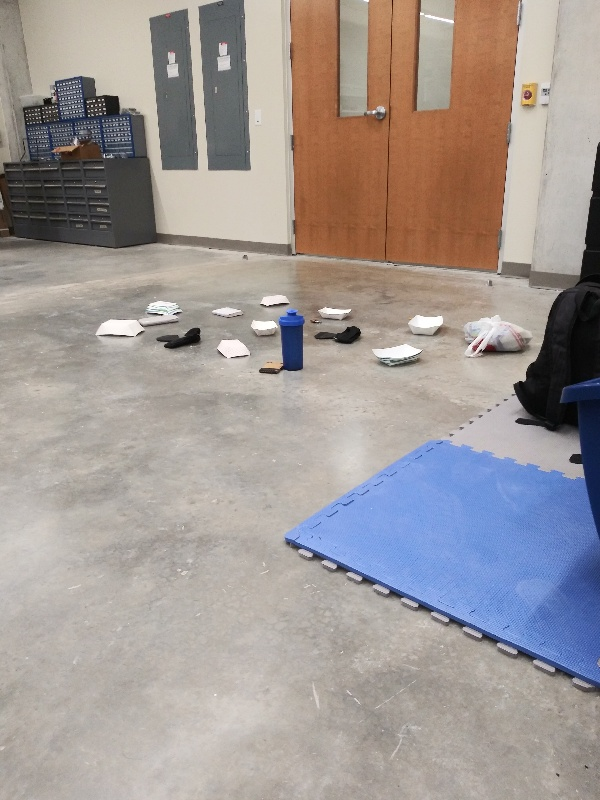plate: (369, 339, 429, 371), (92, 316, 148, 341), (405, 309, 446, 341), (214, 334, 253, 363), (248, 312, 281, 339), (312, 302, 356, 321), (142, 297, 183, 316), (257, 292, 292, 309)
